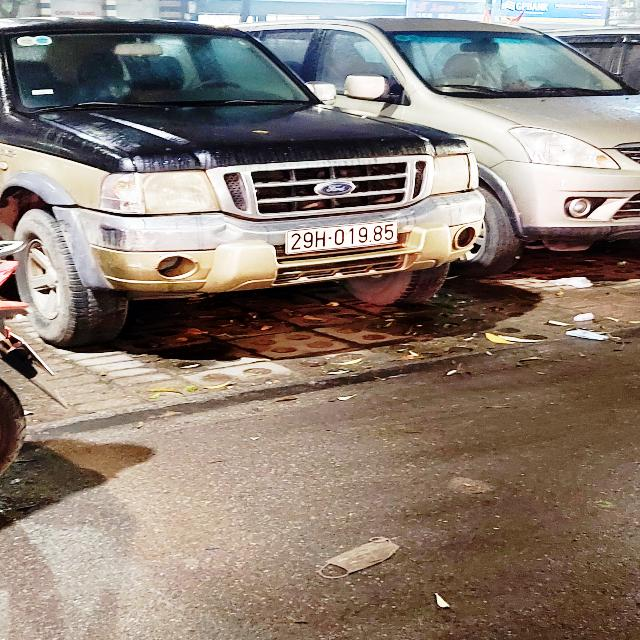license_plate: (285, 218, 402, 257)
